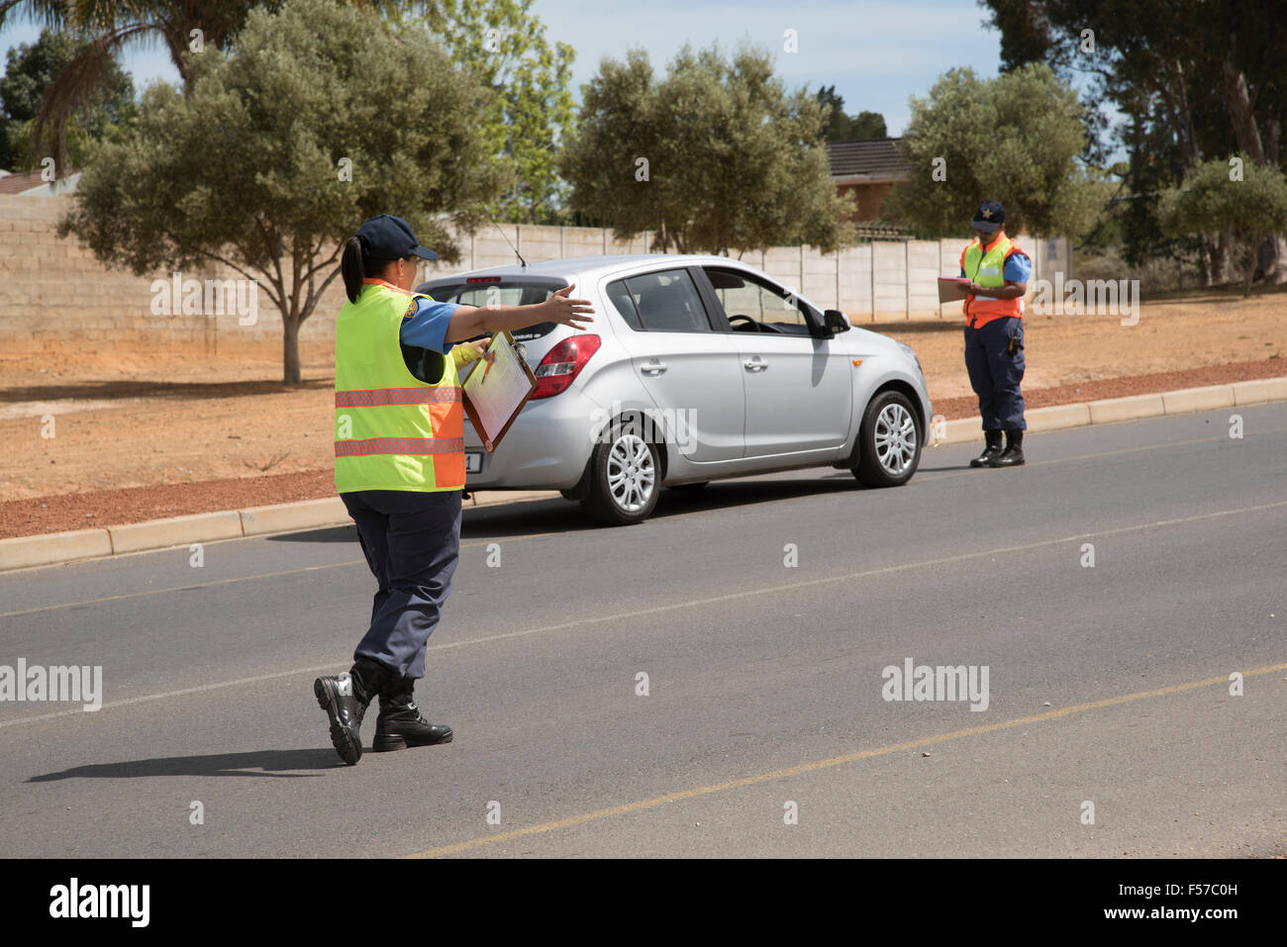Car: (446, 237, 949, 506)
Person: (303, 214, 494, 783), (942, 198, 1047, 486)
Tree: (105, 1, 321, 378)
